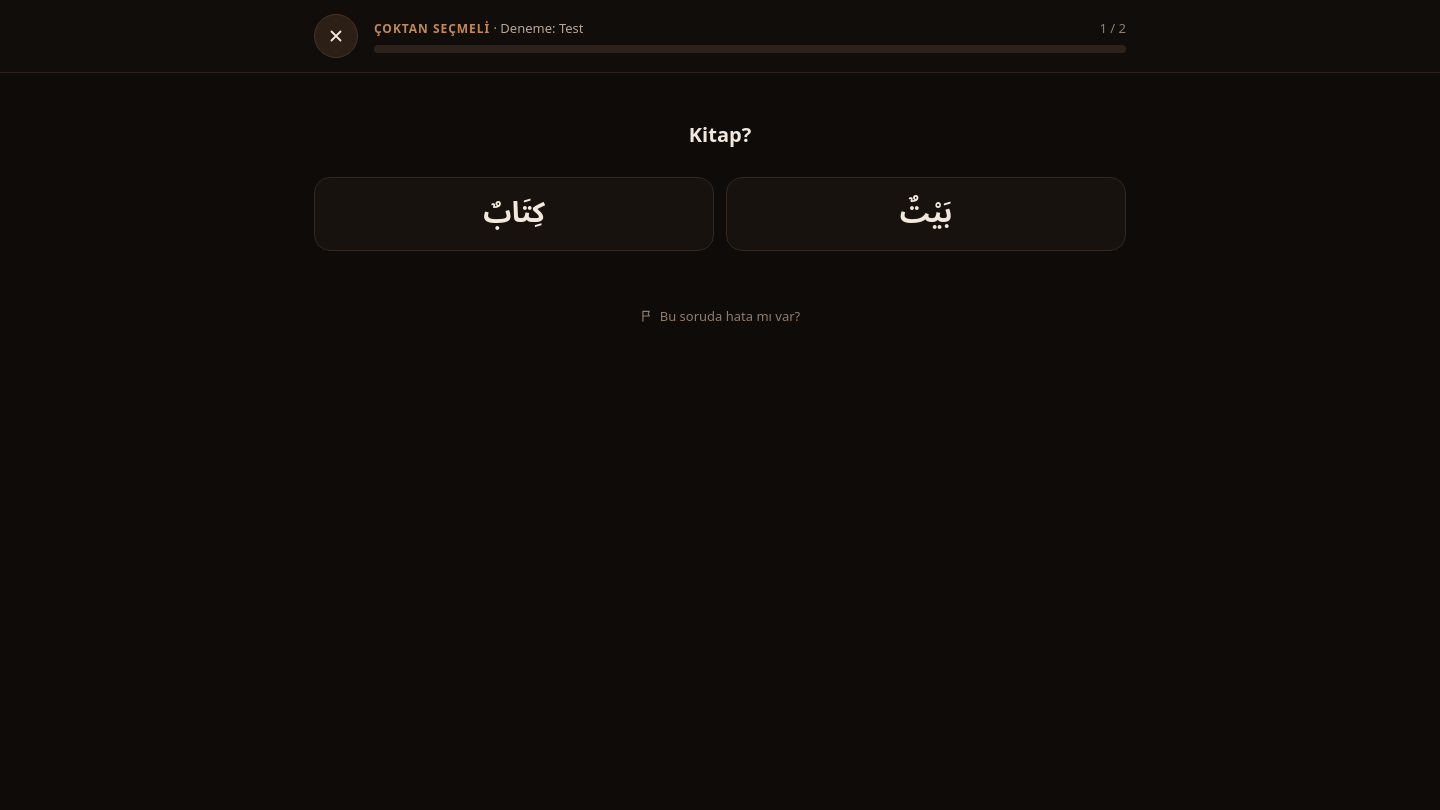
Test: Çoktan seçmeli etkinlik › yanlış cevapta açıklamayı gösterir, soruyu sonda tekrar sorar ve ilk denemeye göre puanlar
Click the 2nd button.
click(514, 214)  # box [314,177,714,251]
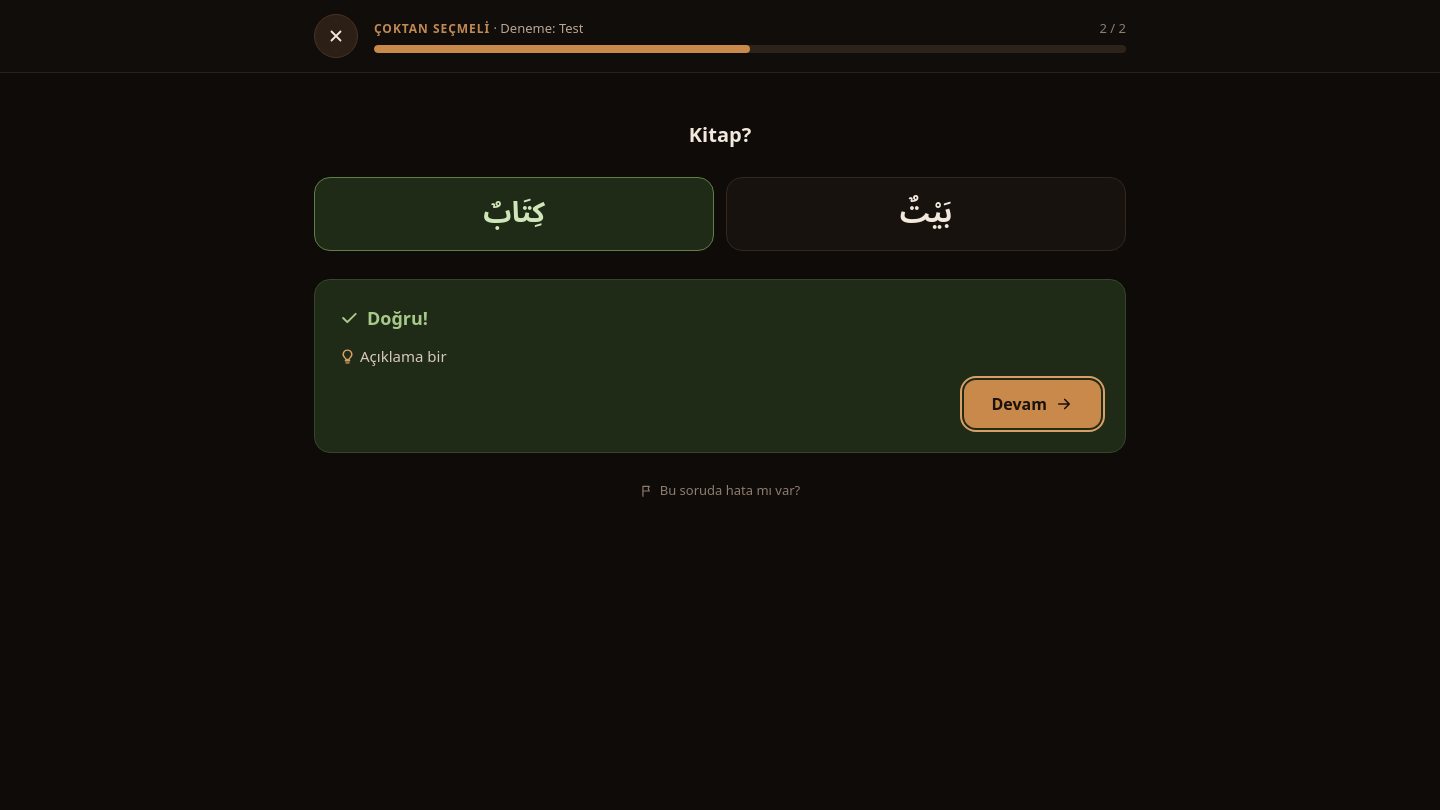
Check: the text "Doğru!" is shown, box [367,306,428,330]
Click the button "Devam".
click(1032, 404)  # box [964,380,1101,428]
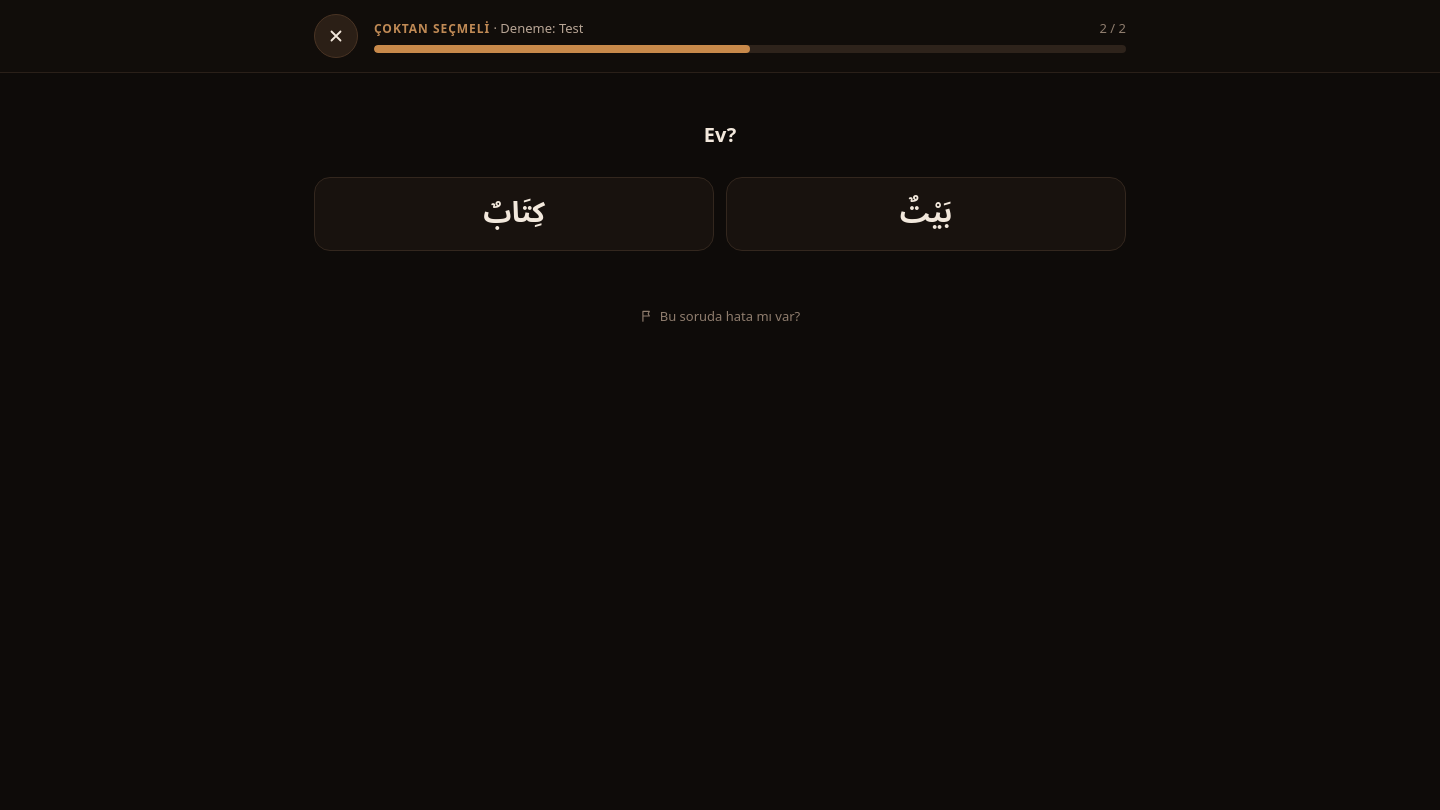
Click the 2nd button.
click(514, 214)  # box [314,177,714,251]
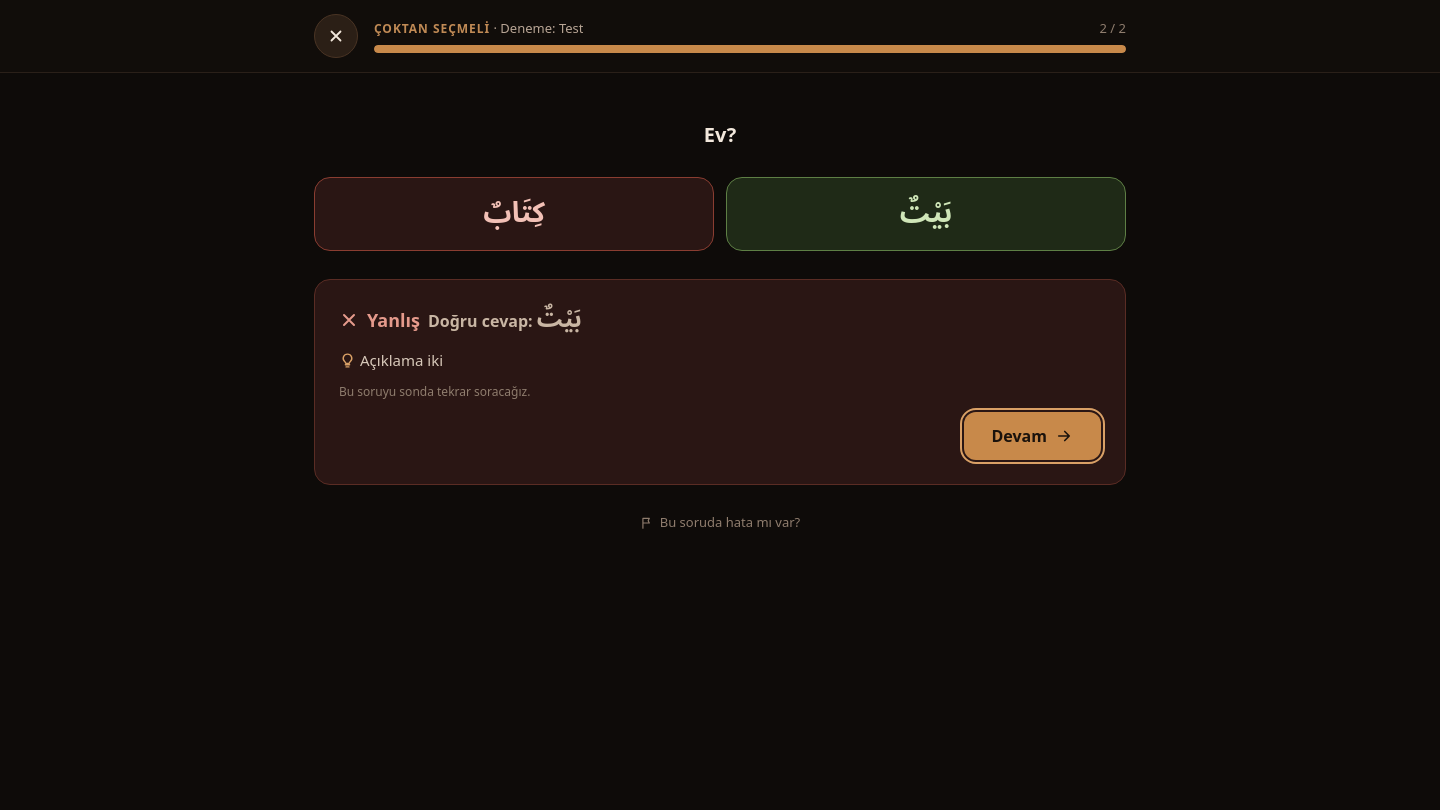
Check: the text "Yanlış" is shown, box [367,308,420,332]
Check: the text "Bu soruyu sonda tekrar soracağız." is shown, box [339,383,530,400]
Click the button "Devam".
click(1032, 436)  # box [964,412,1101,460]
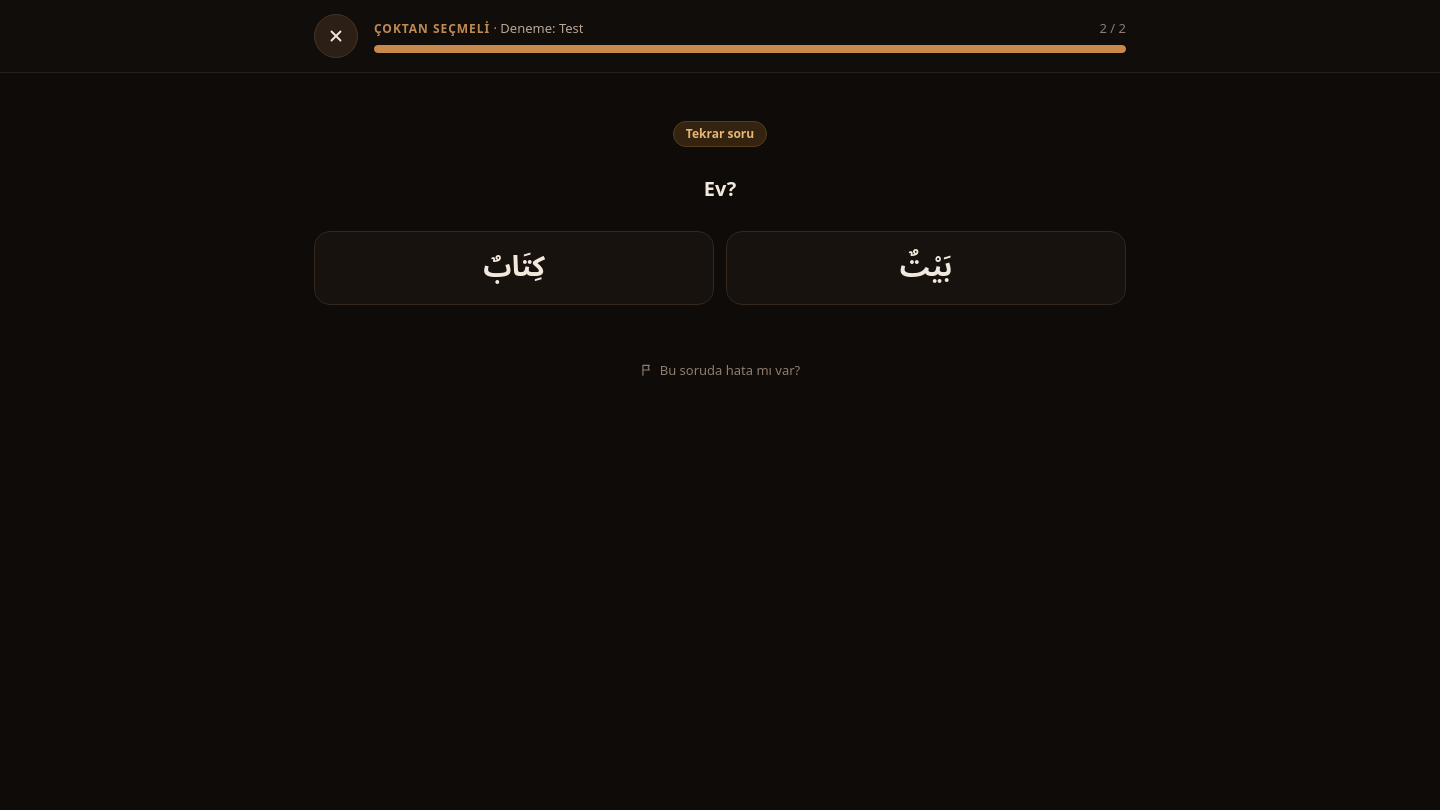
Check: the text "Tekrar soru" is shown, box [673,121,767,147]
Click the 3rd button.
click(926, 268)  # box [726,231,1126,305]
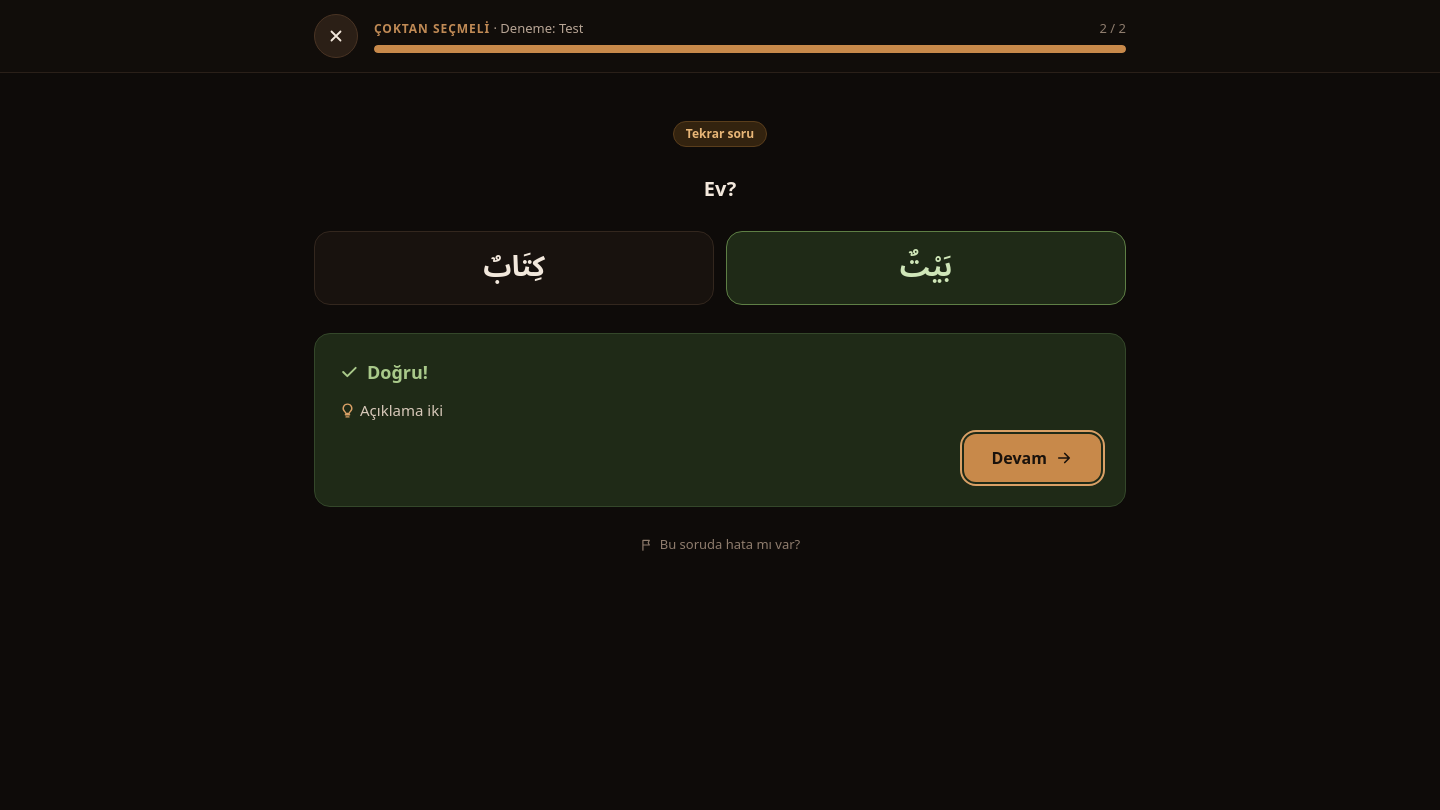
Click the button "Devam".
click(1032, 458)  # box [964,434,1101,482]
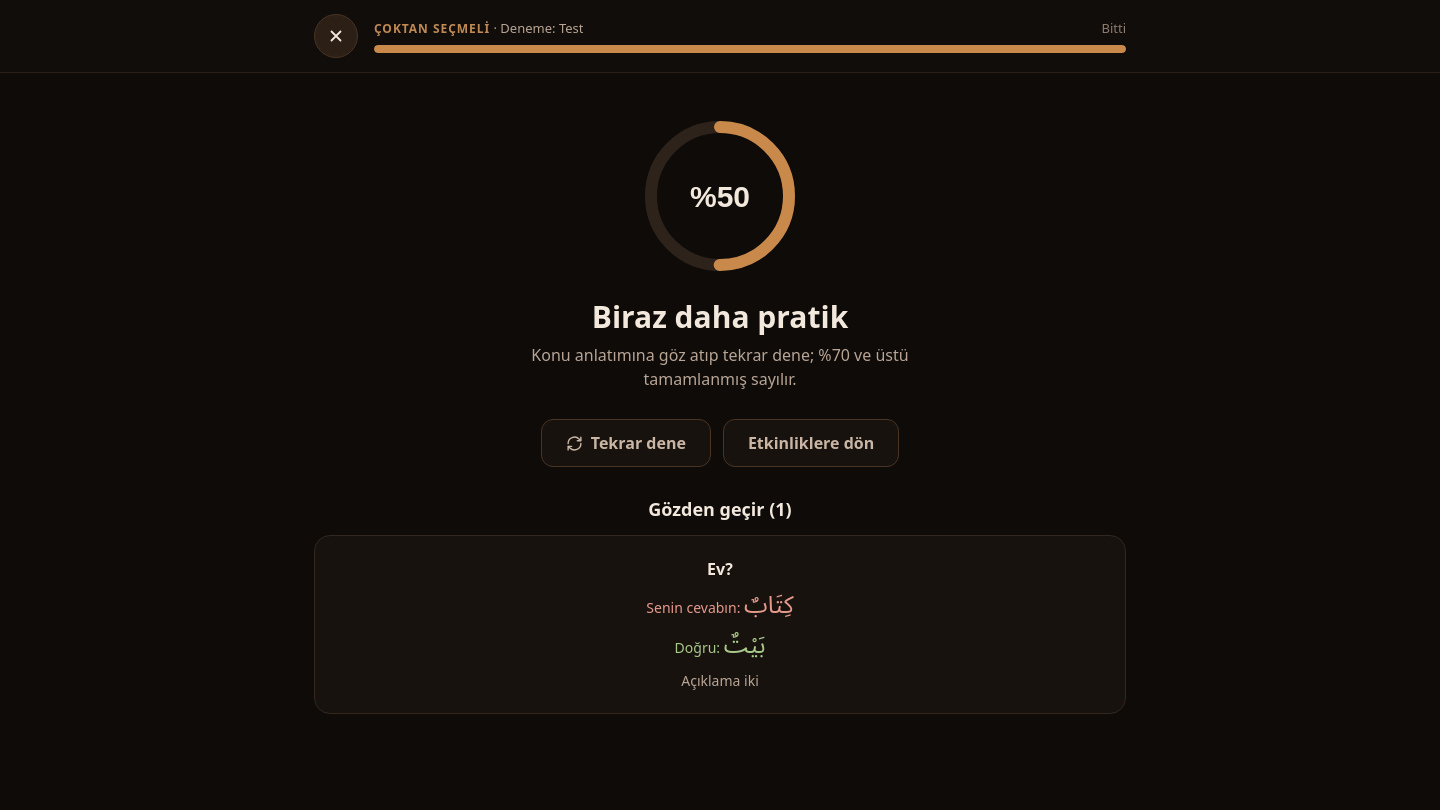
Check: the heading "Biraz daha pratik" is shown, box [592,296,848,337]
